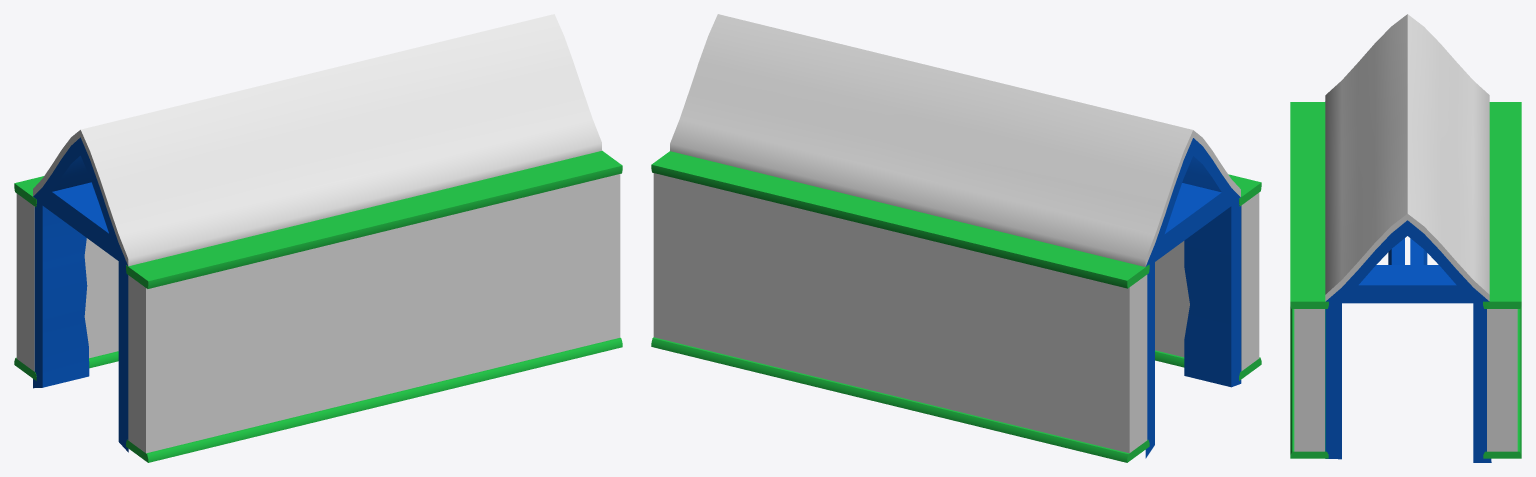
Rendered from Basic Hallway 06_NF.fbx.
3 views of the same model, side by side, from view 1: azimuth 30°, elevation 25°; view 2: azimuth 150°, elevation 25°; view 3: azimuth 270°, elevation 25° (orthographic). The views are drawn at different scales.
Parts seen in each view (by area): view 1: Plane_001_001; view 2: Plane_001_001; view 3: Plane_001_001.
Part boxes in pixels (x1,y1,x2,y2): Plane_001_001: [14, 14, 622, 462]; Plane_001_001: [651, 14, 1261, 462]; Plane_001_001: [1290, 14, 1521, 462].
Bounding box in the file's own units: 1258 × 744 × 615.
